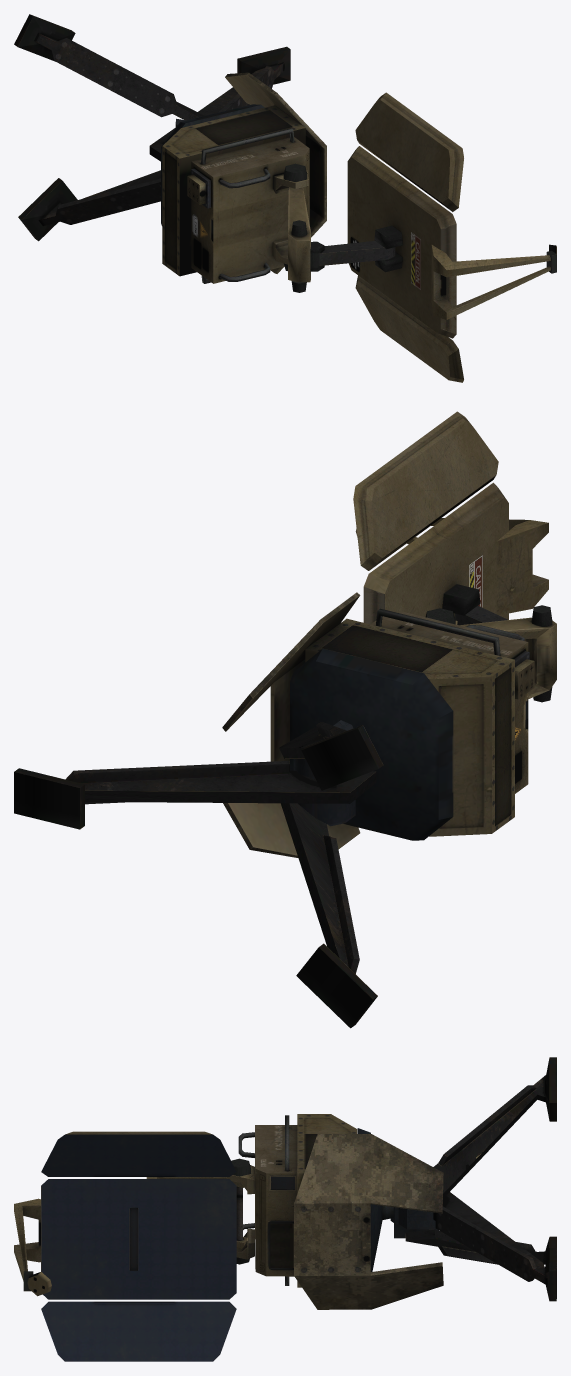
File: t6_wpn_turret_ads_carry_animate_red_LOD1.obj
The picture shows the model from 3 angles, top to bottom: view 1: azimuth 30°, elevation 25°; view 2: azimuth 150°, elevation 25°; view 3: azimuth 270°, elevation 25°; orthographic projection. The views are drawn at different scales.
Visible parts, largest first — view 1: mtl_t6_wpn_turret_ads_red; view 2: mtl_t6_wpn_turret_ads_red; view 3: mtl_t6_wpn_turret_ads_red.
Part boxes in pixels (x1,y1,x2,y2): mtl_t6_wpn_turret_ads_red: (14, 14, 556, 382); mtl_t6_wpn_turret_ads_red: (14, 411, 556, 1028); mtl_t6_wpn_turret_ads_red: (14, 1057, 556, 1361).
Size of the model in its own units: 102 by 81.86 by 177.
